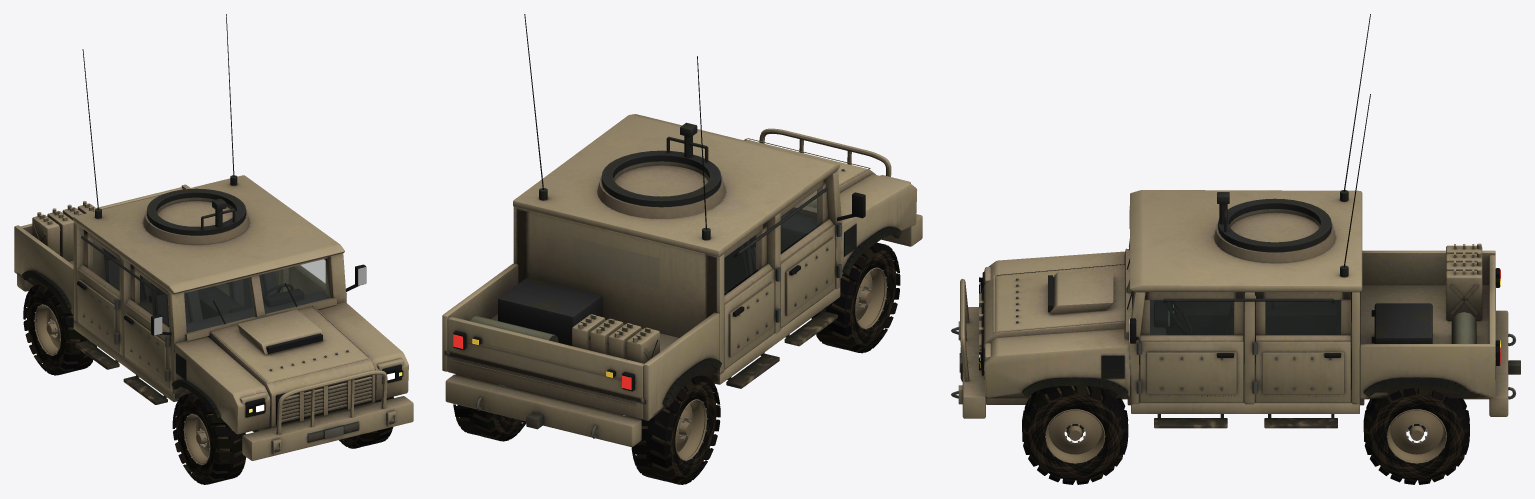
The model's file is military-utility-vehicle.glb.
The picture shows the model from 3 angles, left to right: view 1: azimuth 30°, elevation 25°; view 2: azimuth 150°, elevation 25°; view 3: azimuth 270°, elevation 25°; orthographic projection. The views are drawn at different scales.
Parts seen in each view (by area): view 1: body, fittings, wheel_FR_mesh, wheel_RR_mesh, door_FR_mesh, door_RR_mesh, door_FL_mesh, door_FR_fittings, door_RR_fittings, wheel_FL_mesh, door_FL_fittings; view 2: body, wheel_RR_mesh, wheel_FR_mesh, door_FR_mesh, door_RR_mesh, fittings, wheel_RL_mesh, door_FR_fittings, door_RR_fittings; view 3: body, wheel_FL_mesh, door_FL_mesh, wheel_RL_mesh, door_RL_mesh, door_FL_fittings, door_RL_fittings.
Part boxes in pixels (box(x1,y1,x2,y2)): body: box(14, 14, 413, 460); fittings: box(154, 259, 402, 412); wheel_FR_mesh: box(172, 393, 246, 484); wheel_RR_mesh: box(23, 284, 96, 375); door_FR_mesh: box(124, 264, 170, 388); door_RR_mesh: box(77, 230, 119, 351); door_FL_mesh: box(289, 258, 346, 302); door_FR_fittings: box(137, 274, 168, 324); door_RR_fittings: box(90, 239, 119, 288); wheel_FL_mesh: box(339, 396, 393, 448); door_FL_fittings: box(295, 260, 324, 288); body: box(442, 14, 922, 446); wheel_RR_mesh: box(631, 375, 720, 484); wheel_FR_mesh: box(811, 242, 900, 353); door_FR_mesh: box(780, 179, 841, 327); door_RR_mesh: box(723, 222, 780, 368); fittings: box(453, 191, 816, 389); wheel_RL_mesh: box(453, 374, 526, 441); door_FR_fittings: box(781, 188, 819, 251); door_RR_fittings: box(724, 233, 758, 292); body: box(951, 14, 1520, 431); wheel_FL_mesh: box(1022, 386, 1128, 484); door_FL_mesh: box(1136, 292, 1243, 402); wheel_RL_mesh: box(1363, 388, 1469, 484); door_RL_mesh: box(1252, 292, 1350, 402); door_FL_fittings: box(1150, 300, 1233, 334); door_RL_fittings: box(1265, 300, 1340, 334).
Bounding box in the file's own units: 2.68 × 4.01 × 5.42.
Materials: 11 (2 with a texture image).
